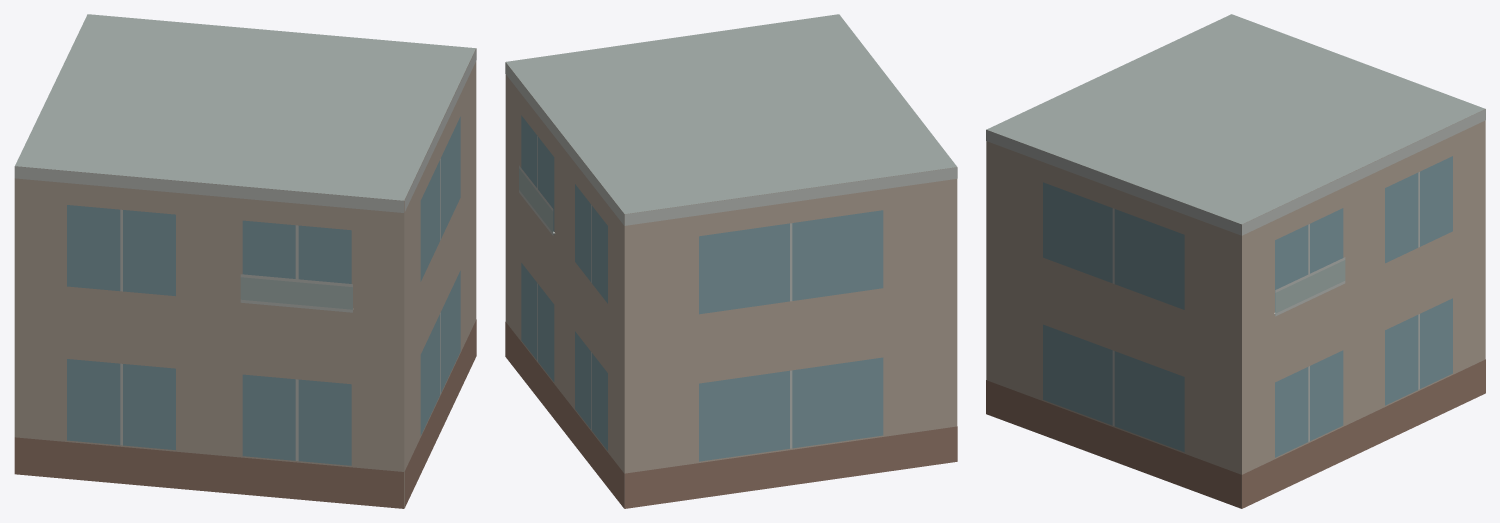
The model's file is survey-upis-32771966.glb.
The picture shows the model from 3 angles, left to right: view 1: azimuth 30°, elevation 25°; view 2: azimuth 150°, elevation 25°; view 3: azimuth 270°, elevation 25°; orthographic projection. The views are drawn at different scales.
Visible parts, largest first — view 1: survey-upis-32771966.tmp; view 2: survey-upis-32771966.tmp; view 3: survey-upis-32771966.tmp.
Boxes of the visible parts, x1,y1,x2,y2 form: survey-upis-32771966.tmp: (14, 14, 476, 508); survey-upis-32771966.tmp: (505, 14, 957, 508); survey-upis-32771966.tmp: (986, 14, 1485, 508).
Bounding box in the file's own units: 9.69 × 6.1 × 9.72.
